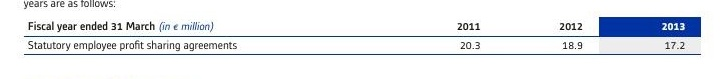table: (0, 0, 724, 79)
